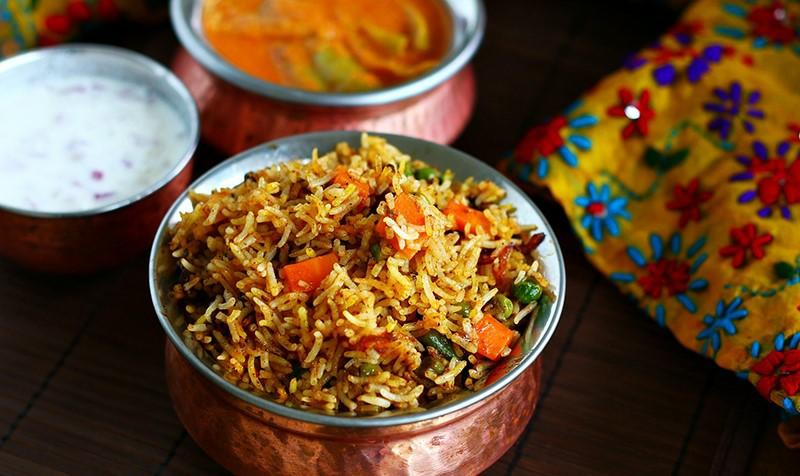Biryani: (170, 133, 545, 413)
